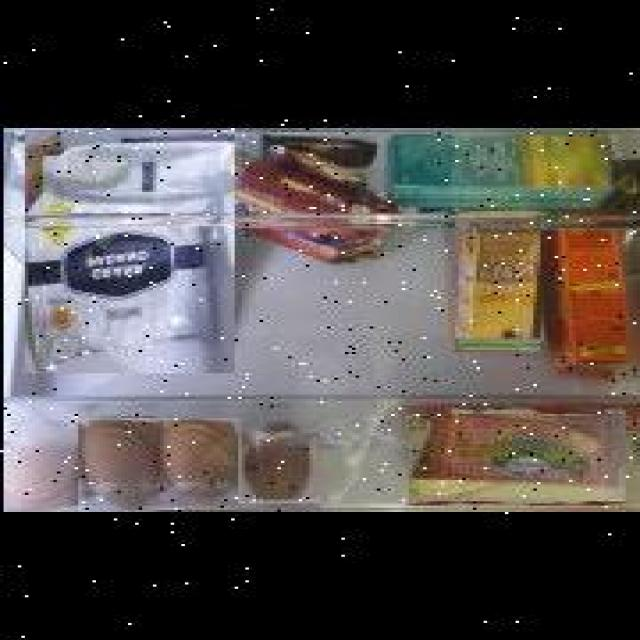butter: (406, 414, 622, 503)
egg: (153, 418, 238, 508), (75, 414, 153, 510), (0, 415, 75, 511), (235, 420, 316, 506)
grated_cheese: (21, 128, 231, 371)
heavy_cream: (451, 217, 537, 350)
